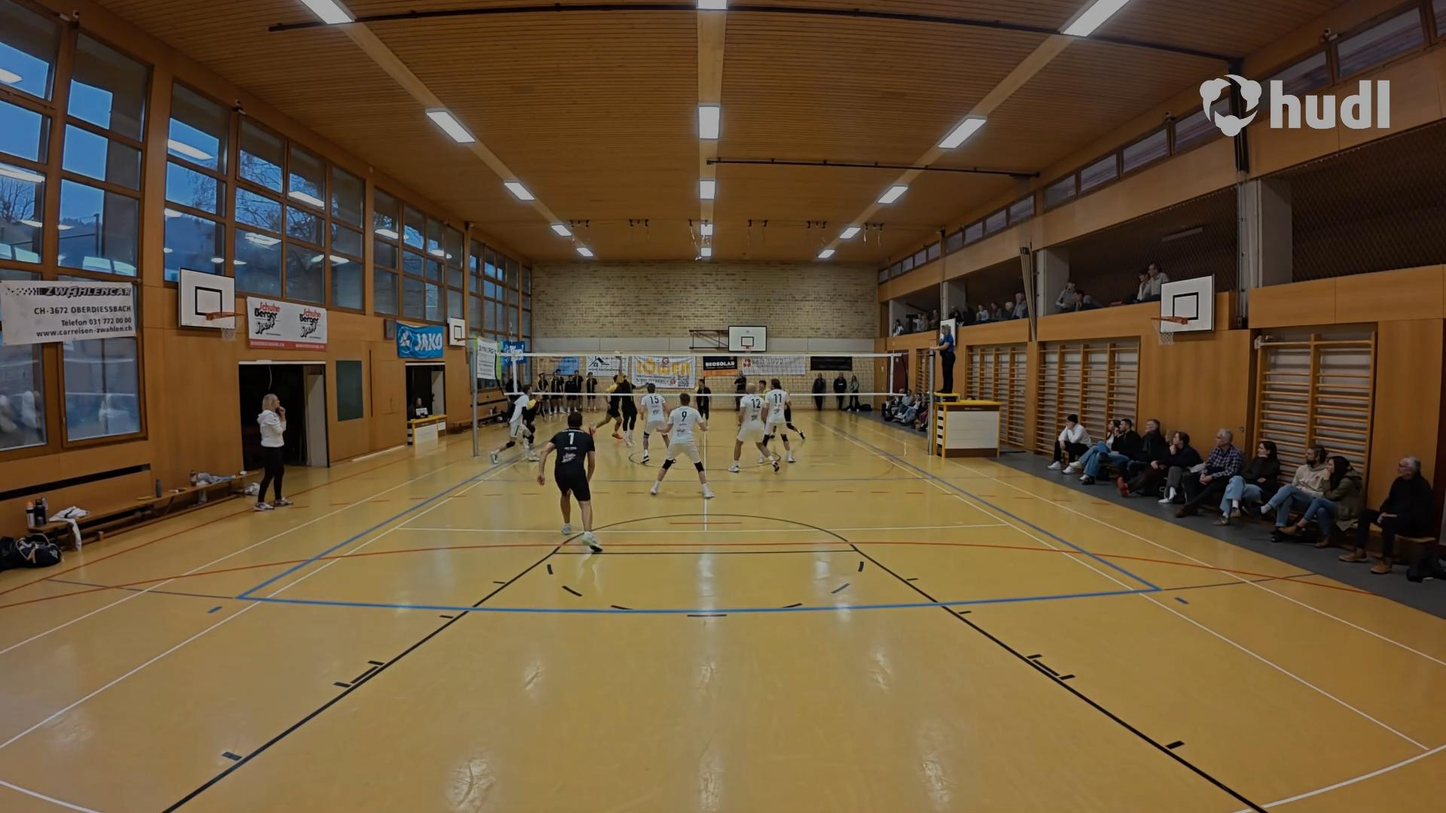Player: (541, 408, 602, 556), (651, 392, 708, 498), (485, 382, 541, 466), (732, 381, 774, 473), (761, 379, 798, 466), (772, 379, 808, 452), (587, 375, 620, 440), (691, 377, 715, 432)
Set: (614, 348, 641, 449)
ball: (615, 349, 625, 362)
